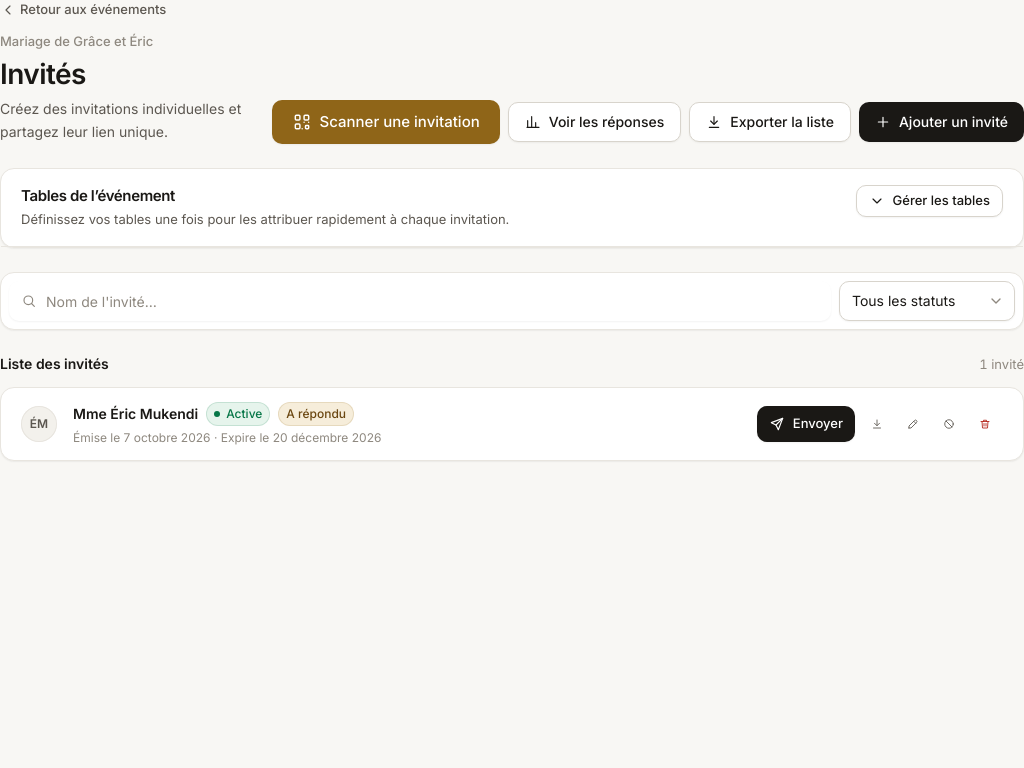
Test case: GuestsPage › deletes an invitation after confirmation
Click the button named "Supprimer" at (985,424), box [967,406,1003,442]
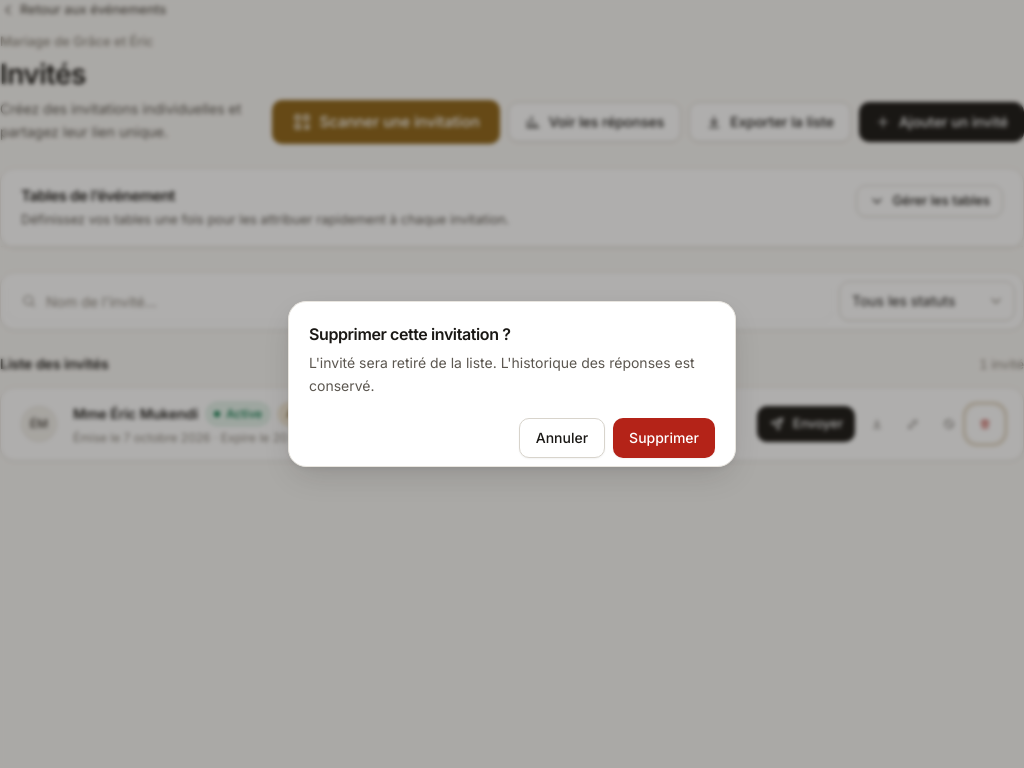
Expected: the dialog is shown, [288,301,736,467]
Expected: the text "L'invité sera retiré de la liste. L'historique des réponses est conservé." is shown, [309,352,715,398]
Click the button "Supprimer" at (664,438), box [613,418,715,458]
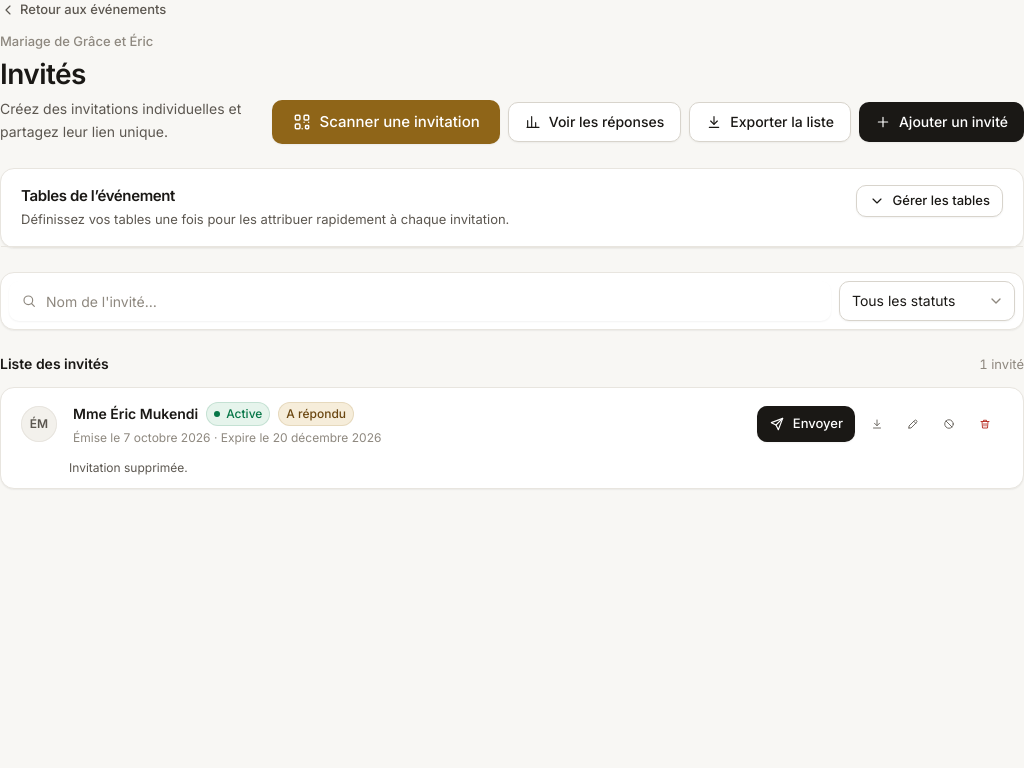
Expected: the text "Invitation supprimée." is shown, [69,460,188,475]
